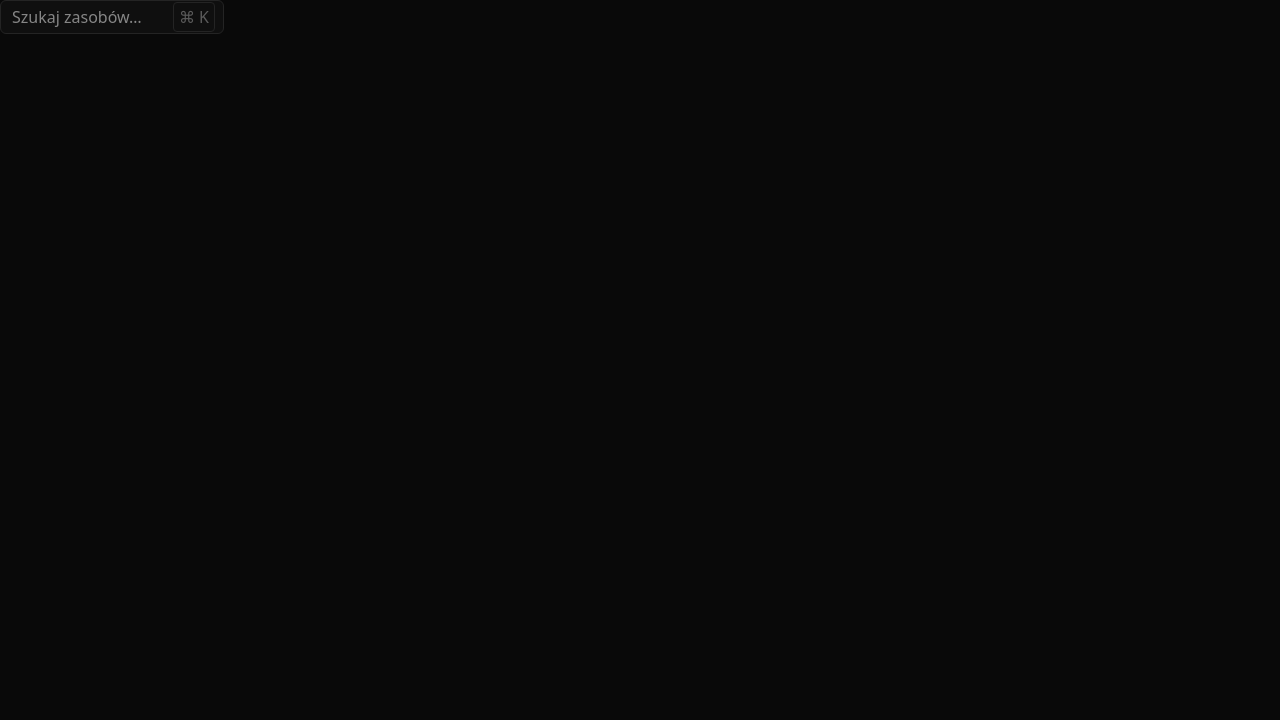
it: DashboardCommandMenu › opens with Ctrl+K, filters views and closes with Escape
The width and height of the screenshot is (1280, 720).
Press k
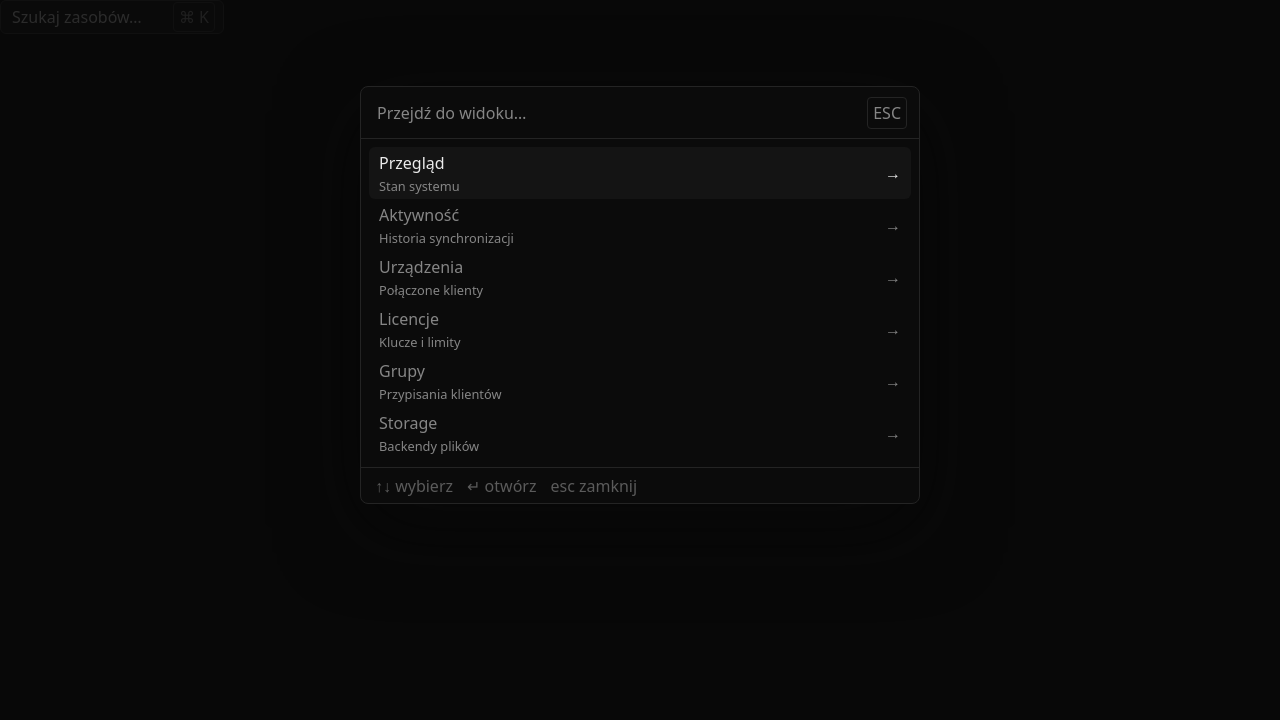
Expected: the dialog named "Przejdź do widoku" is shown, [360,86,920,504]
Type "stor" into the search field at (617, 113), box [377,101,857,125]
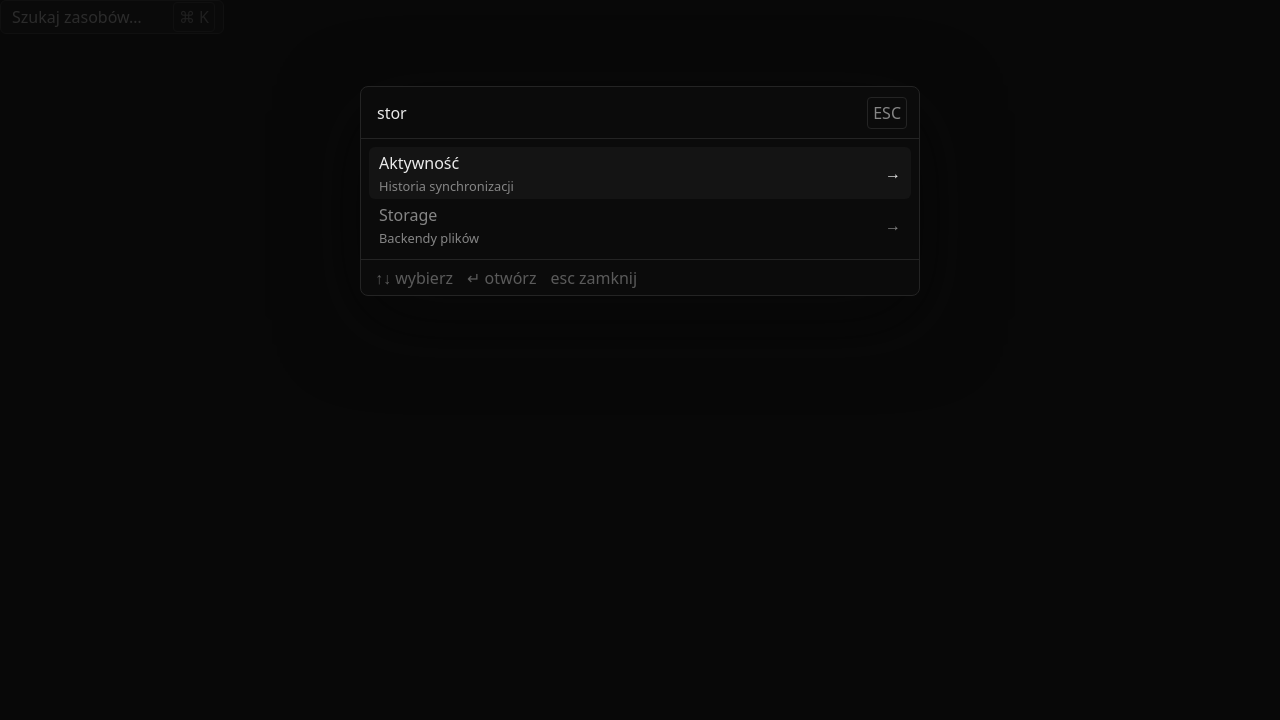
Expected: the link "Storage Backendy plików →" is shown, [369,199,911,251]
Expected: the link "Urządzenia" is gone
Press Escape
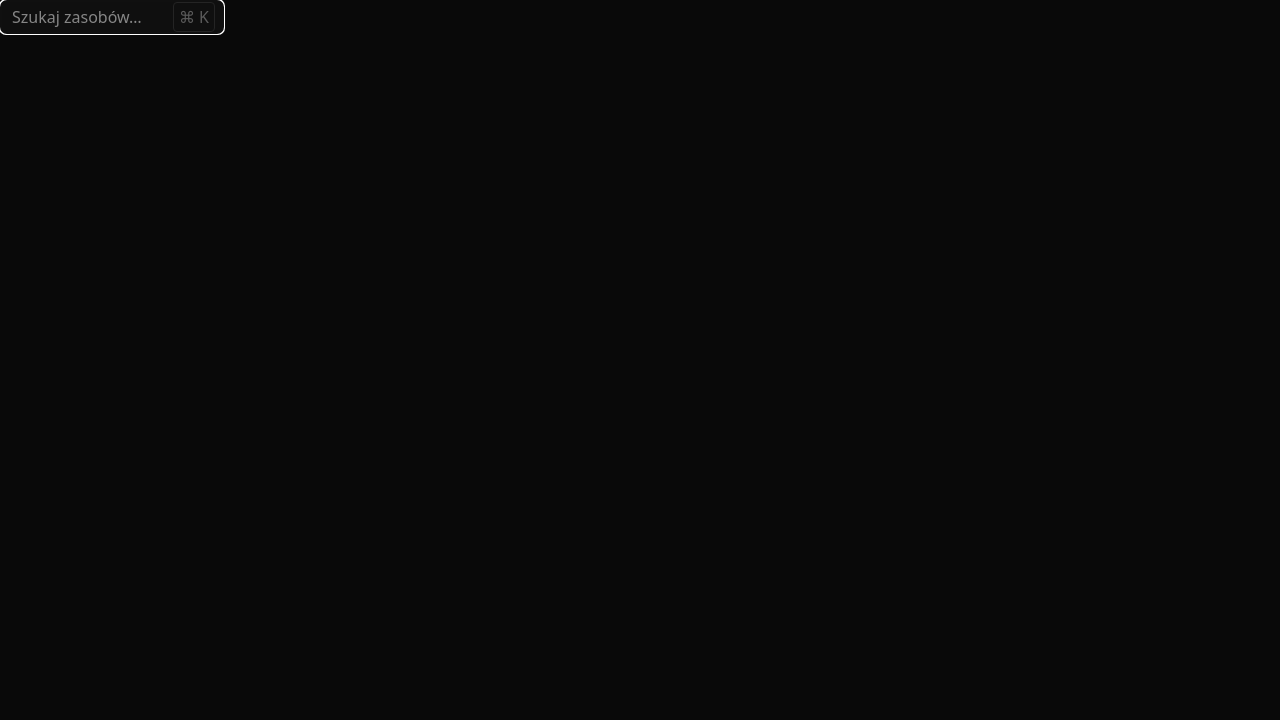
Expected: the dialog is gone
